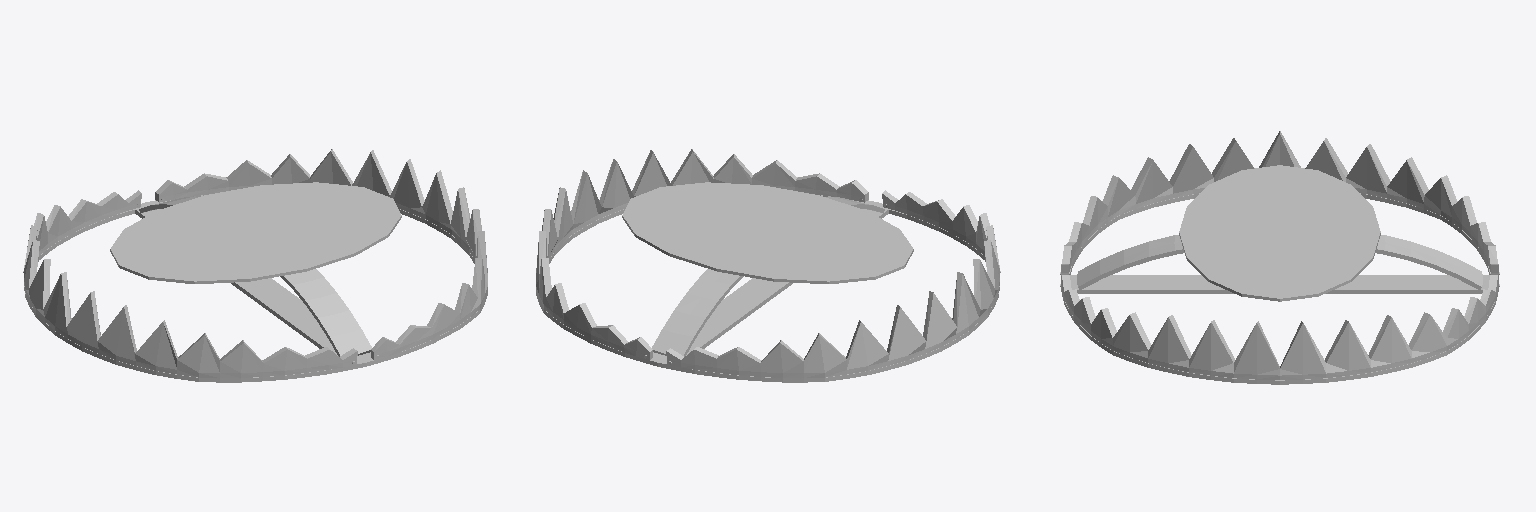
File: Bear Trap.obj
The picture shows the model from 3 angles: view 1: azimuth 30°, elevation 25°; view 2: azimuth 150°, elevation 25°; view 3: azimuth 270°, elevation 25°; orthographic projection.
Visible parts, largest first — view 1: Pan, Jaw.L, Jaw.R, Plate; view 2: Pan, Jaw.L, Jaw.R, Plate; view 3: Pan, Jaw.R, Jaw.L, Plate.
Part boxes in pixels (bbox=[...]): Pan: bbox=[110, 182, 401, 283]; Jaw.L: bbox=[23, 190, 357, 377]; Jaw.R: bbox=[155, 149, 487, 359]; Plate: bbox=[24, 195, 487, 382]; Pan: bbox=[622, 182, 913, 283]; Jaw.L: bbox=[666, 190, 1000, 377]; Jaw.R: bbox=[536, 149, 868, 359]; Plate: bbox=[536, 195, 999, 382]; Pan: bbox=[1179, 165, 1380, 301]; Jaw.R: bbox=[1061, 275, 1498, 379]; Jaw.L: bbox=[1061, 131, 1498, 275]; Plate: bbox=[1062, 193, 1497, 384].
Size of the model in its own units: 0.1953 by 0.0285 by 0.1854.